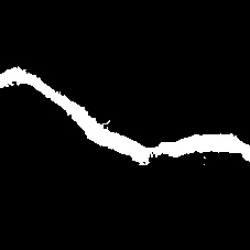crack: (1, 65, 247, 168)
